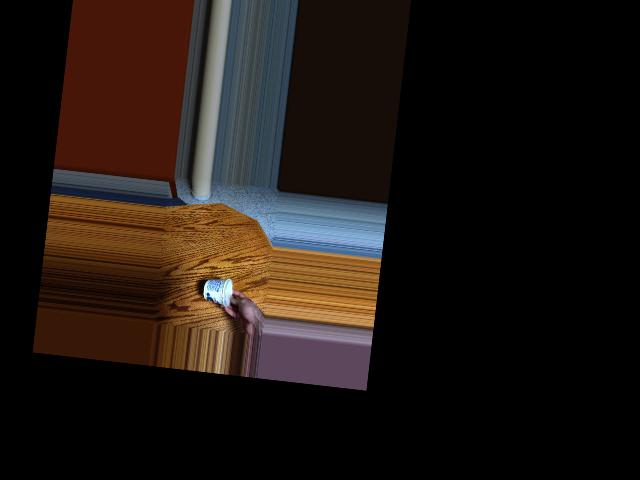cotage: (206, 274, 239, 305)
